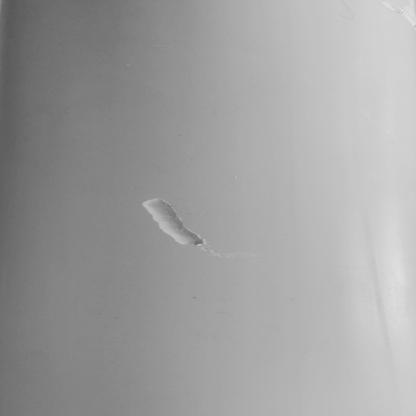sunshang: (140, 201, 220, 255)
